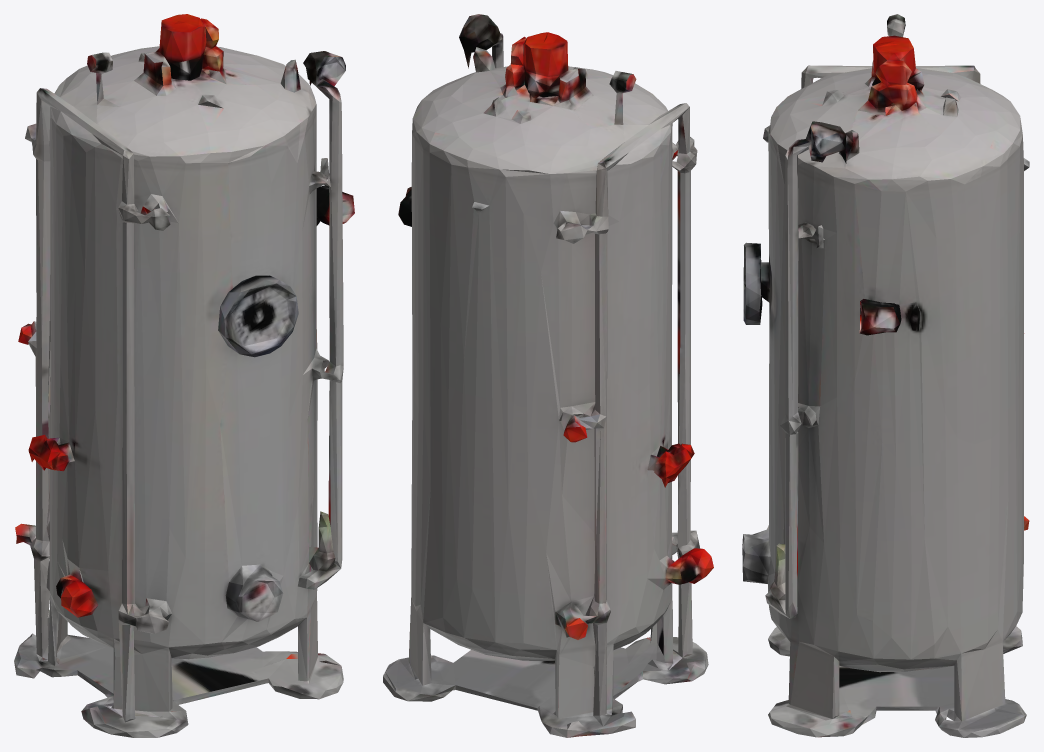
The model's file is gym_boiler.glb.
3 renders of one model, left to right at view 1: azimuth 30°, elevation 25°; view 2: azimuth 150°, elevation 25°; view 3: azimuth 270°, elevation 25°, orthographic. The views are drawn at different scales.
Parts seen in each view (by area): view 1: textured_mesh.obj; view 2: textured_mesh.obj; view 3: textured_mesh.obj.
Part boxes in pixels (box(x1,y1,x2,y2)): textured_mesh.obj: box(14, 14, 354, 737); textured_mesh.obj: box(383, 14, 713, 737); textured_mesh.obj: box(742, 14, 1029, 737).
Size of the model in its own units: 1.16 by 2.4 by 0.9794.
Materials: 1 (1 with a texture image).
